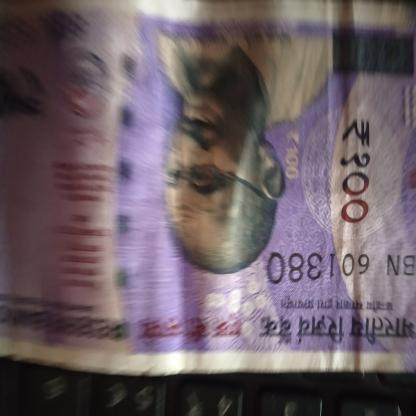New100Front: (0, 8, 415, 373)
